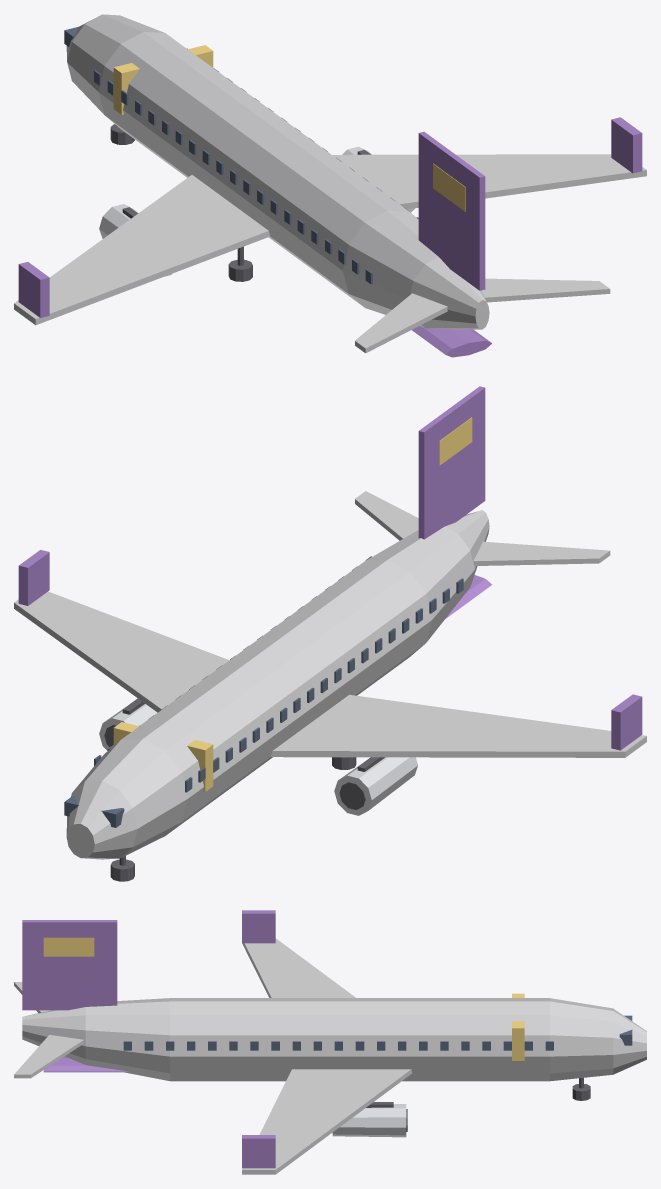
The model's file is airliner.glb.
The picture shows the model from 3 angles, top to bottom: view 1: azimuth 30°, elevation 25°; view 2: azimuth 150°, elevation 25°; view 3: azimuth 270°, elevation 25°; orthographic projection. The views are drawn at different scales.
Parts seen in each view (by area): view 1: airliner-white, airliner-violet, airliner-glass, airliner-gold, airliner-dark, airliner-engine; view 2: airliner-white, airliner-violet, airliner-engine, airliner-glass, airliner-dark, airliner-gold; view 3: airliner-white, airliner-violet, airliner-glass, airliner-engine, airliner-gold, airliner-dark.
Part boxes in pixels (x1,y1,x2,y2): airliner-white: [14, 14, 646, 353]; airliner-violet: [18, 117, 642, 357]; airliner-glass: [64, 26, 418, 284]; airliner-gold: [113, 45, 465, 211]; airliner-dark: [110, 124, 370, 281]; airliner-engine: [99, 146, 414, 276]; airliner-white: [14, 491, 646, 859]; airliner-violet: [18, 386, 642, 750]; airliner-engine: [99, 704, 417, 815]; airliner-glass: [64, 556, 463, 827]; airliner-dark: [104, 698, 384, 881]; airliner-gold: [113, 417, 472, 791]; airliner-white: [14, 938, 646, 1174]; airliner-violet: [22, 910, 275, 1168]; airliner-glass: [123, 1015, 632, 1050]; airliner-engine: [332, 1104, 406, 1137]; airliner-gold: [43, 937, 524, 1060]; airliner-dark: [366, 1078, 590, 1131].
Size of the model in its own units: 26 by 9.2 by 30.
